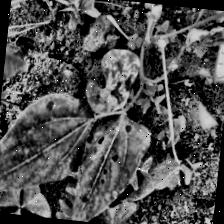ALS: (0, 85, 104, 214), (63, 120, 149, 224), (88, 49, 140, 122)
